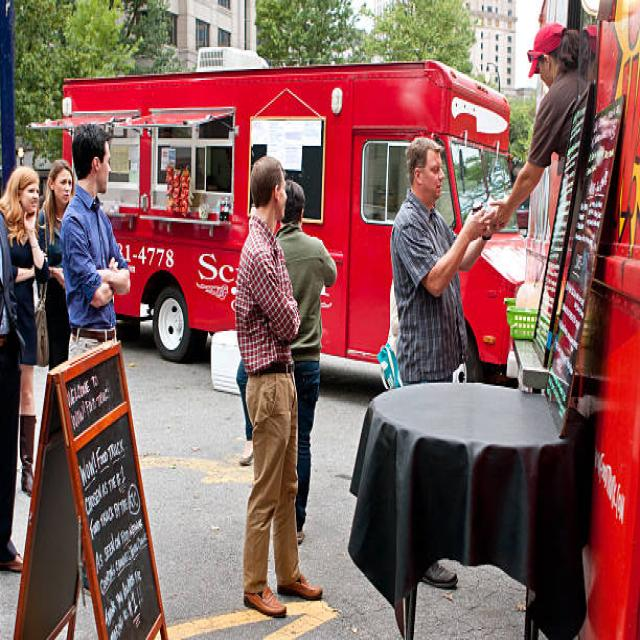Emperan: (45, 48, 566, 390), (364, 0, 640, 640)
